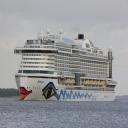cruises: (14, 27, 119, 105)
